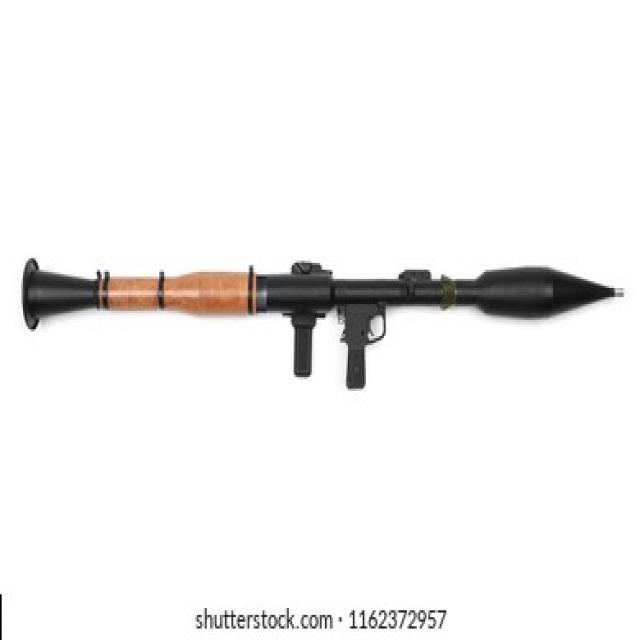rocket launcher: (19, 242, 640, 393)
